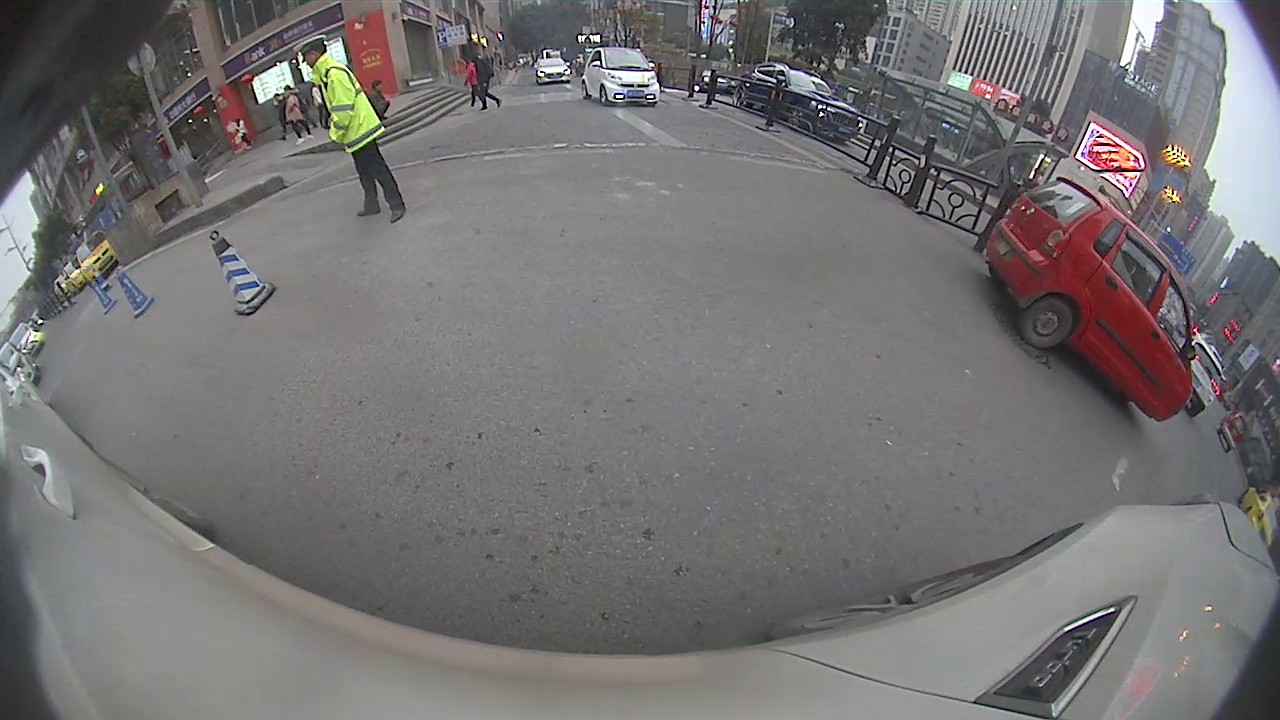car: (984, 174, 1197, 423), (736, 64, 862, 149), (580, 48, 661, 107)
front: (790, 103, 811, 135), (596, 85, 608, 105)
person: (296, 31, 379, 221), (283, 85, 305, 144), (470, 52, 488, 113), (234, 113, 251, 157)
rear: (1020, 297, 1075, 350), (580, 80, 591, 101)
